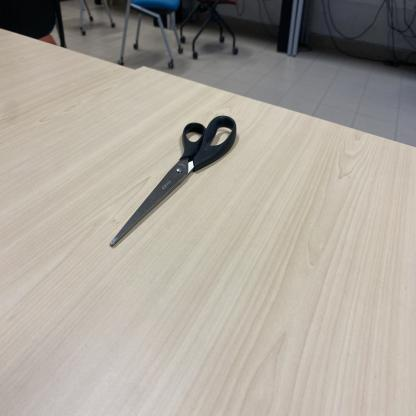scissors: (110, 114, 238, 247)
